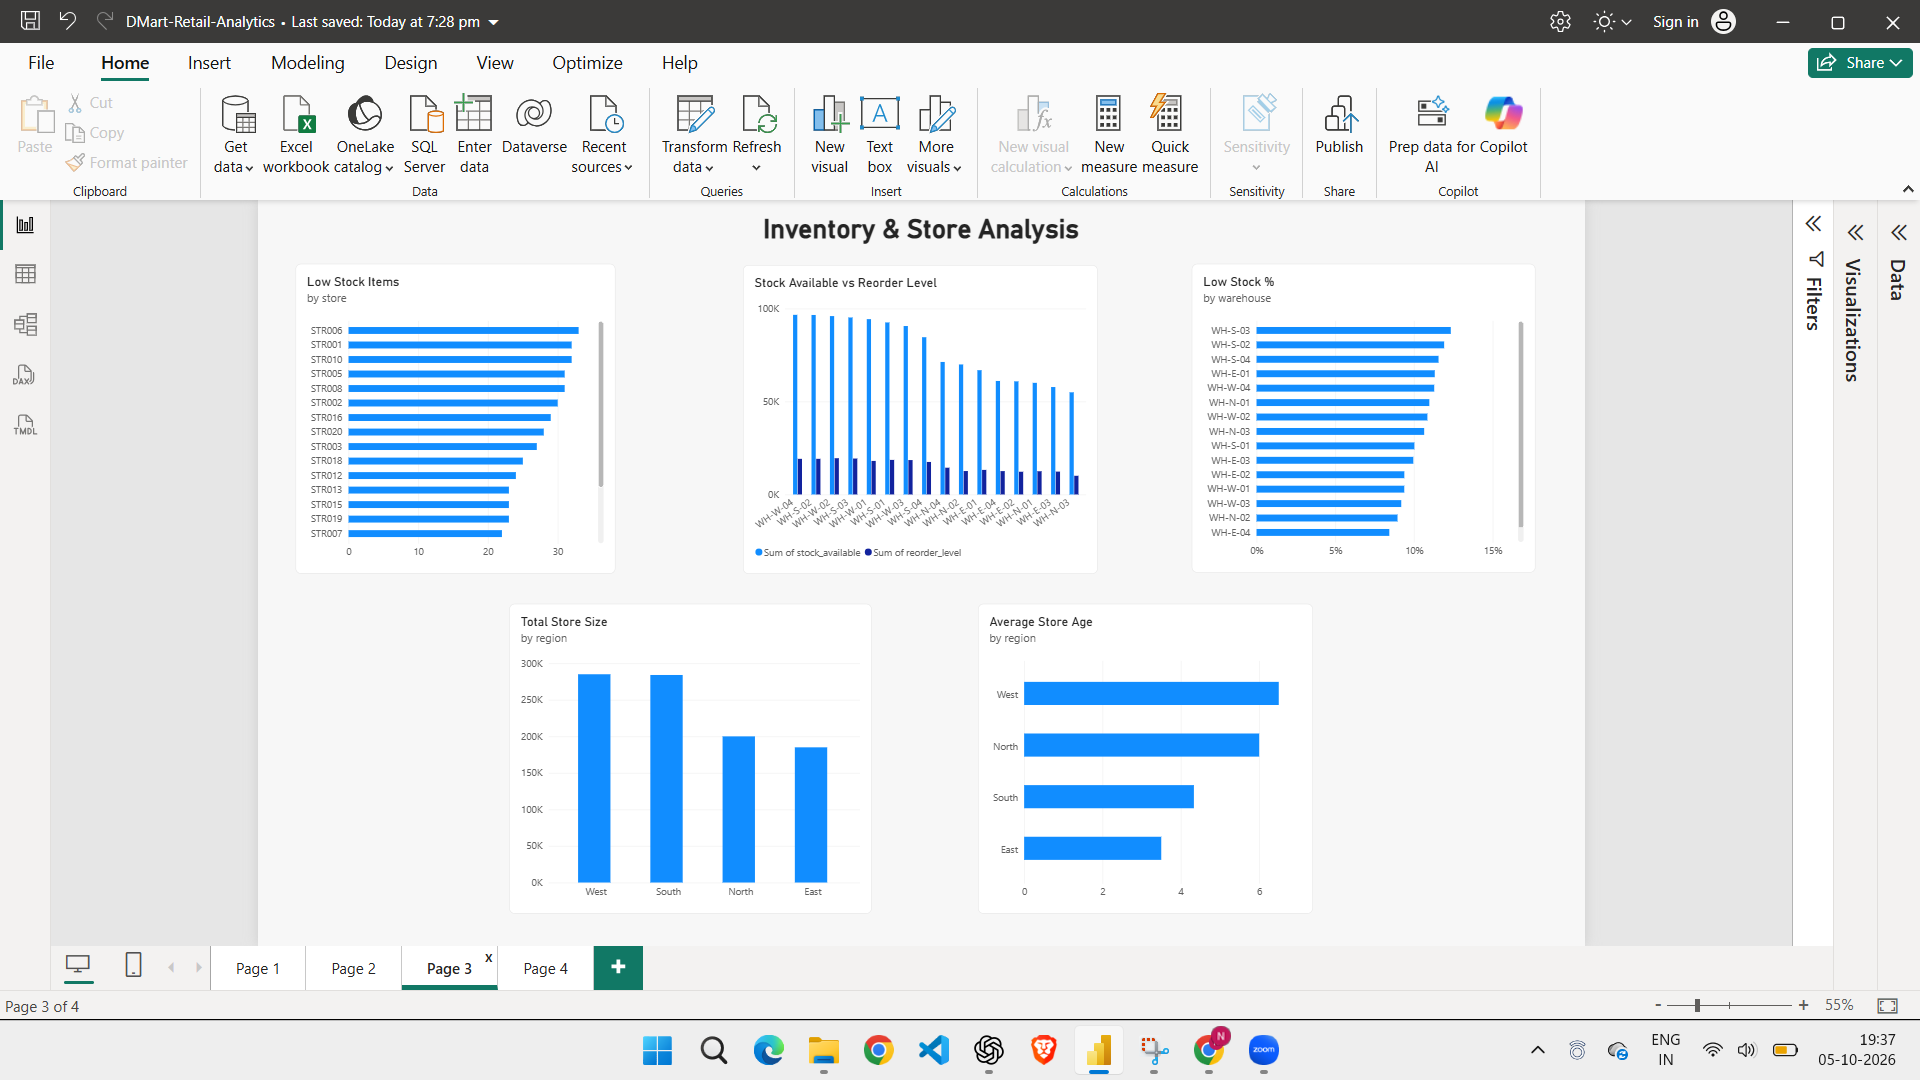

This screenshot's page, from the dashboard's own definition file:
{"tool":"powerbi","page":{"name":"Page 3","canvas":[1920,1080],"ordinal":2},"visuals":[{"type":"textbox","box":[0,0,1920.1,70.6],"z":0},{"type":"clusteredBarChart","title":"Low Stock Items ","fields":{"Category":["Stores.store_id"],"Y":["Inventorys.Low Stock Items"]},"box":[54.3,92.3,463.3,448.8],"z":1000},{"type":"clusteredColumnChart","title":"Stock Available vs Reorder Level","fields":{"Category":["Inventorys.warehouse_location"],"Y":["Sum(Inventorys.stock_available)","Sum(Inventorys.reorder_level)"]},"box":[702.1,94.1,513.9,447],"z":2000},{"type":"clusteredBarChart","title":"Low Stock % ","fields":{"Category":["Inventorys.warehouse_location"],"Y":["Inventorys.Low Stock %"]},"box":[1351.8,92.3,497.7,447],"z":3000},{"type":"clusteredColumnChart","title":"Total Store Size","fields":{"Category":["Stores.region"],"Y":["Sum(Stores.store_size_sqft)"]},"box":[363.7,584.5,524.8,448.8],"z":4000},{"type":"clusteredBarChart","fields":{"Category":["Stores.region"],"Y":["Stores.Average Store Age"]},"box":[1042.4,584.5,485,448.8],"z":5000}]}

Visuals, with their boxes on the page's 1920x1080 design canvas (x1, y1, x2, y2). These are canvas units, not pixel positions in the 1920x1080 screenshot, which may show the page scaled, cropped or inside an application window:
textbox: bbox(0, 0, 1920, 71)
"Low Stock Items " clusteredBarChart: bbox(54, 92, 518, 541)
"Stock Available vs Reorder Level" clusteredColumnChart: bbox(702, 94, 1216, 541)
"Low Stock % " clusteredBarChart: bbox(1352, 92, 1850, 539)
"Total Store Size" clusteredColumnChart: bbox(364, 584, 888, 1033)
clusteredBarChart - Stores.region x Stores.Average Store Age: bbox(1042, 584, 1527, 1033)
